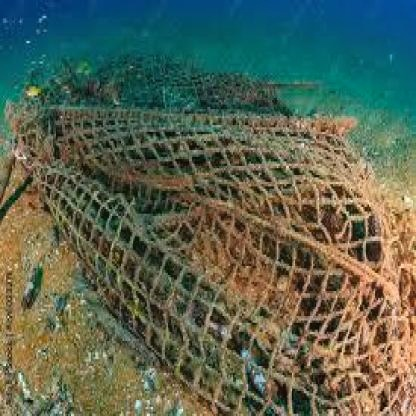net: (18, 89, 407, 409)
